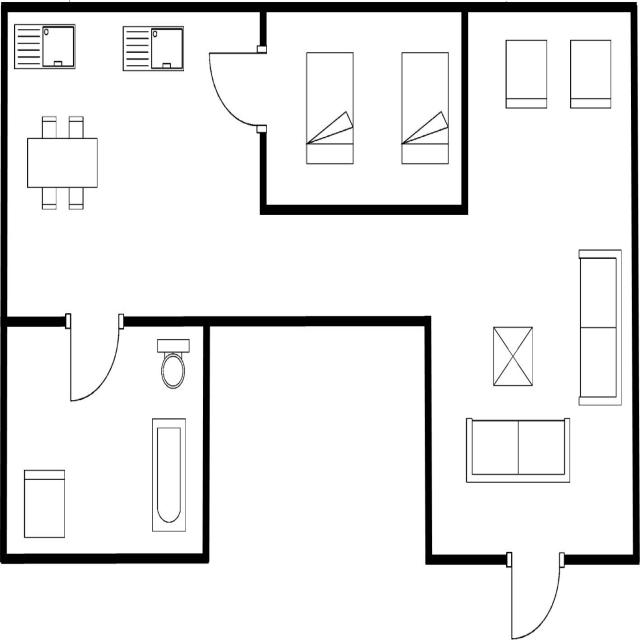bed: (303, 46, 356, 168), (399, 48, 450, 168)
coffee_table: (491, 323, 534, 390)
dining_table: (24, 110, 100, 214)
large_sink: (154, 335, 191, 392)
large_sofa: (464, 414, 572, 486), (578, 246, 623, 409)
sink: (12, 20, 78, 73), (120, 22, 186, 74)
small_sofa: (567, 35, 613, 111), (20, 466, 66, 541), (503, 36, 549, 110)
tub: (150, 414, 187, 534)
